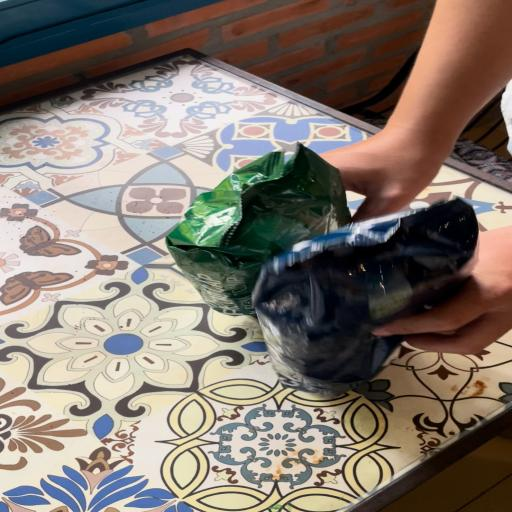cafe_hat: (254, 199, 478, 395)
cafe_xay: (166, 142, 349, 315)
